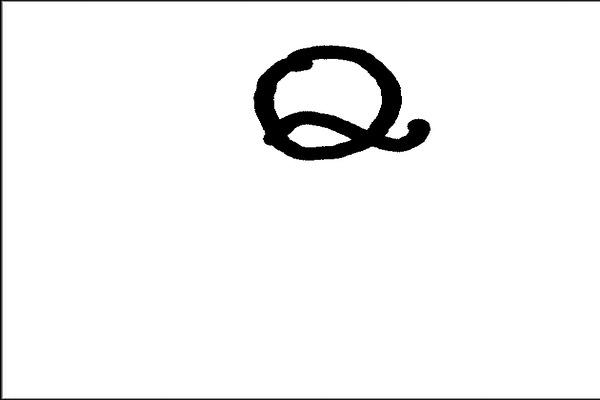Q: (244, 32, 434, 167)
